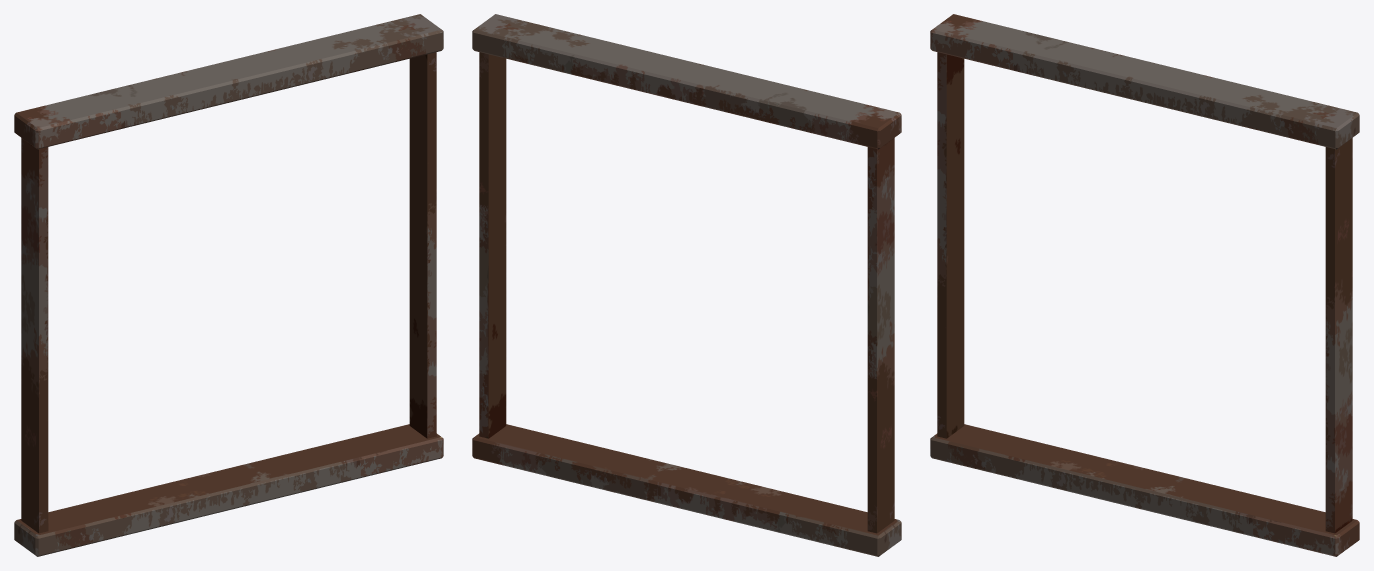
Rendered from door_huti.fbx.
The picture shows the model from 3 angles, left to right: view 1: azimuth 30°, elevation 25°; view 2: azimuth 150°, elevation 25°; view 3: azimuth 330°, elevation 25°; orthographic projection.
Visible parts, largest first — view 1: door; view 2: door; view 3: door.
Part boxes in pixels (box(x1,y1,x2,y2)): door: box(14, 14, 443, 556); door: box(472, 14, 901, 556); door: box(930, 14, 1359, 556).
Bounding box in the file's own units: 0.9967 × 1 × 0.1.
